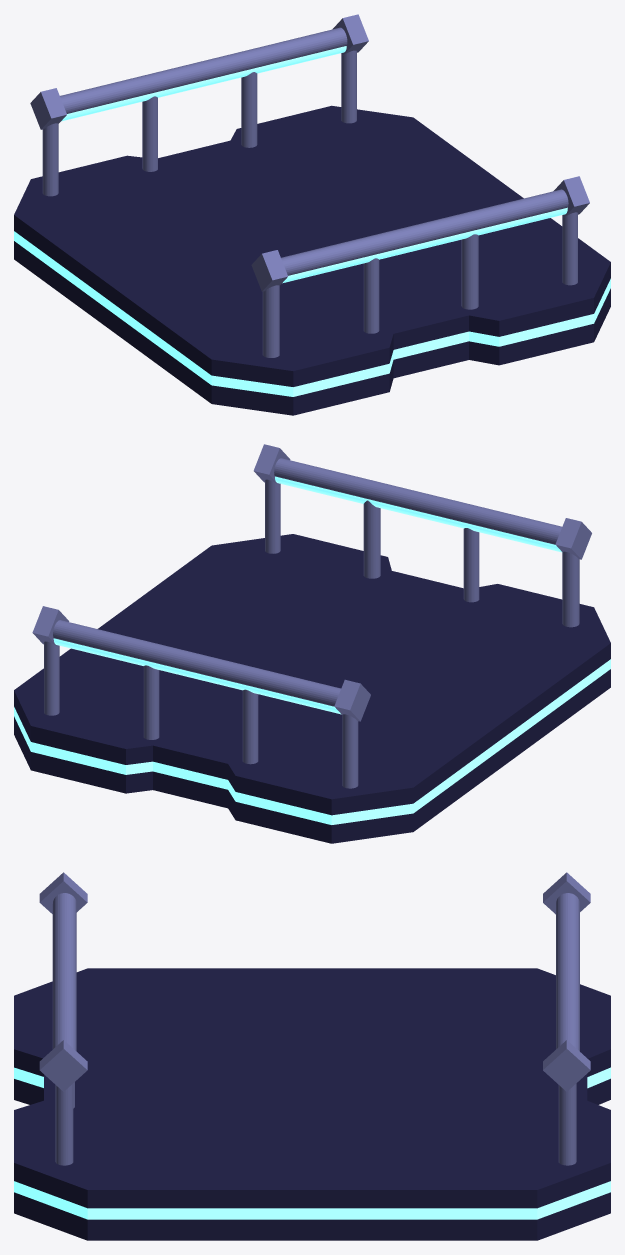
File: Elevator.fbx
The picture shows the model from 3 angles, top to bottom: view 1: azimuth 30°, elevation 25°; view 2: azimuth 150°, elevation 25°; view 3: azimuth 270°, elevation 25°; orthographic projection. The views are drawn at different scales.
Parts seen in each view (by area): view 1: Cylinder.046; view 2: Cylinder.046; view 3: Cylinder.046.
Boxes of the visible parts, x1,y1,x2,y2 form: Cylinder.046: [14, 14, 610, 415]; Cylinder.046: [14, 444, 610, 843]; Cylinder.046: [14, 872, 610, 1240].
Bounding box in the file's own units: 6.42 × 2.28 × 7.3.
